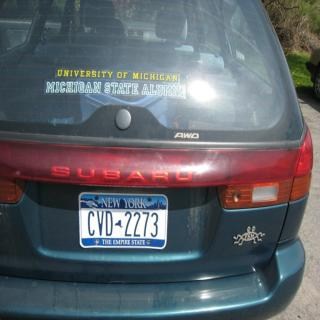license: (79, 193, 170, 252)
